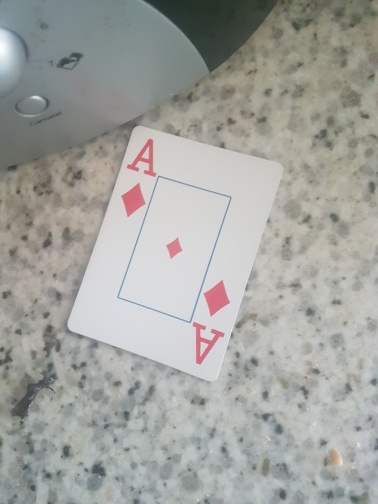ace: (69, 123, 285, 384)
